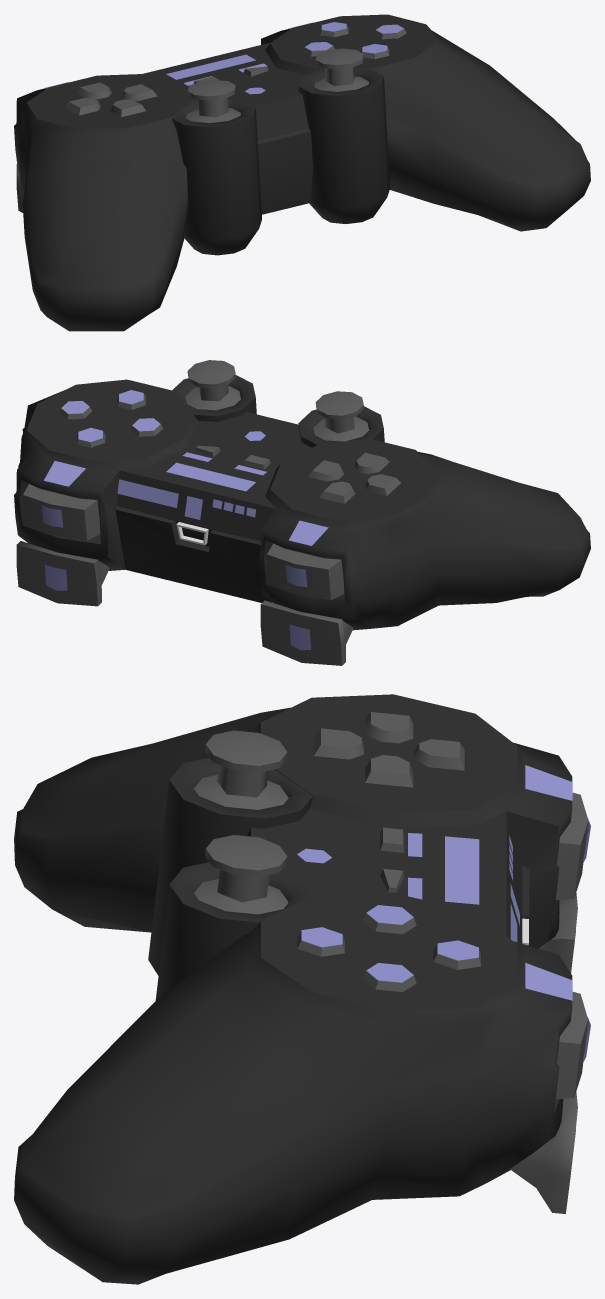
File: SONYPS302.FBX
The picture shows the model from 3 angles, top to bottom: view 1: azimuth 30°, elevation 25°; view 2: azimuth 150°, elevation 25°; view 3: azimuth 270°, elevation 25°; orthographic projection. The views are drawn at different scales.
Visible parts, largest first — view 1: SONYPS302; view 2: SONYPS302; view 3: SONYPS302.
Part boxes in pixels (<box>): SONYPS302: <box>14,14,590,331</box>; SONYPS302: <box>14,360,590,665</box>; SONYPS302: <box>14,694,590,1284</box>.
Size of the model in its own units: 15.09 by 8.29 by 4.73.
